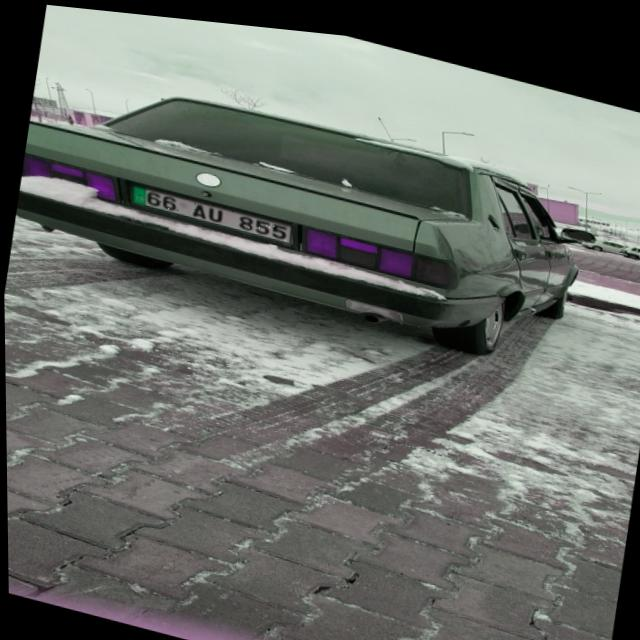license_plate: (127, 180, 292, 238)
